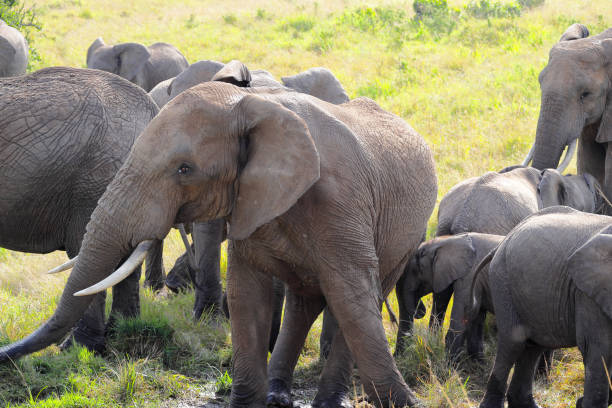africanelephant: (66, 71, 360, 316)
